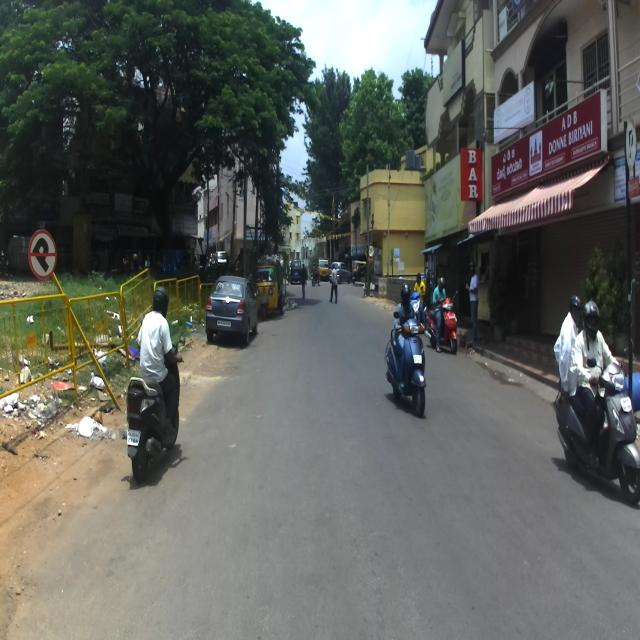car ahead at: (202, 270, 260, 346)
motorcycle ahead at: (556, 360, 637, 515), (121, 362, 182, 486), (386, 317, 433, 416)
sign board ahead at: (25, 230, 59, 281)
